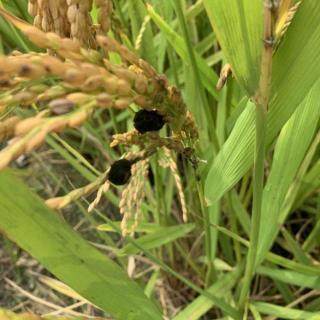Gosong-Palsu: (134, 107, 166, 135), (105, 159, 135, 187)
